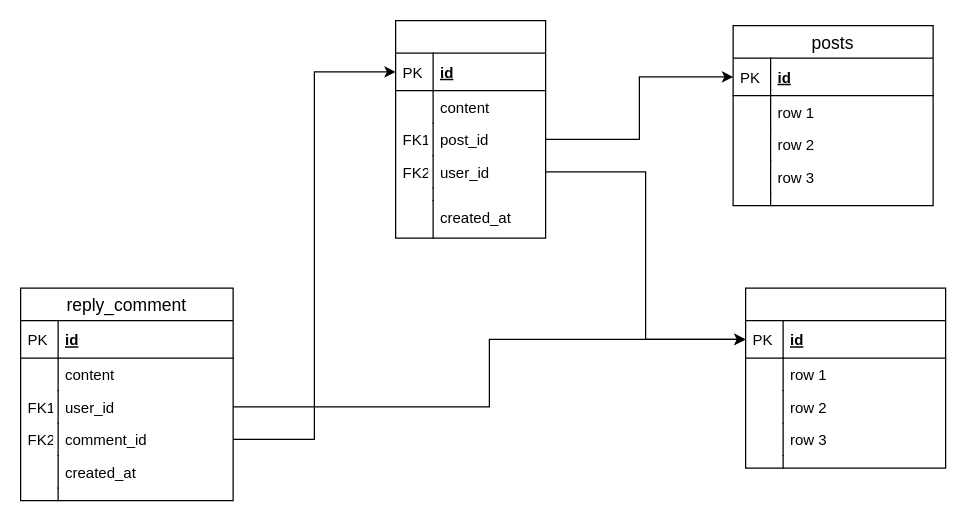
The diagram is 966 pixels wide and 521 high, and some of its shapes have lost their labels. Each missing label, with the box of its shape:
comments: (394, 19, 546, 238)
users: (744, 287, 946, 468)
